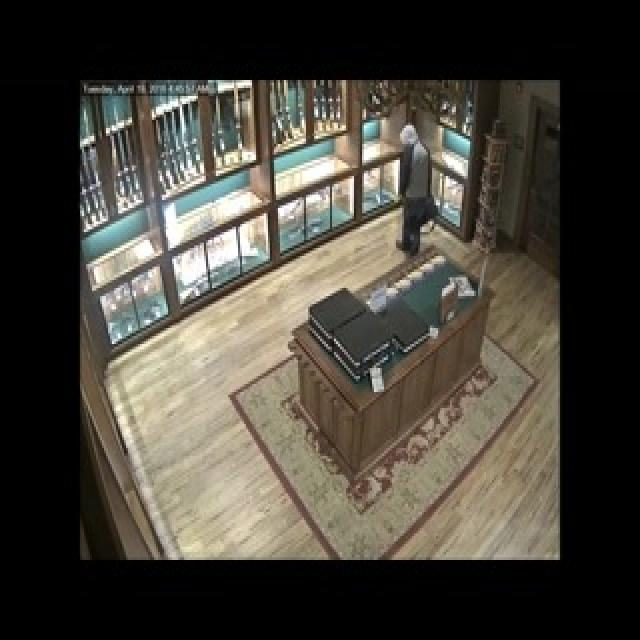thief: (380, 119, 436, 265)
